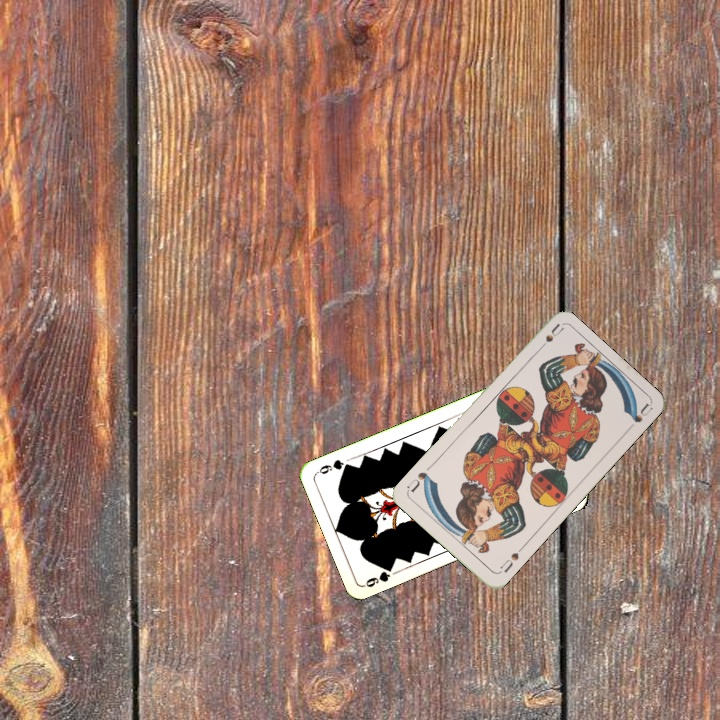G9: (360, 561, 396, 590)
SU: (532, 320, 566, 355), (496, 542, 526, 575)
